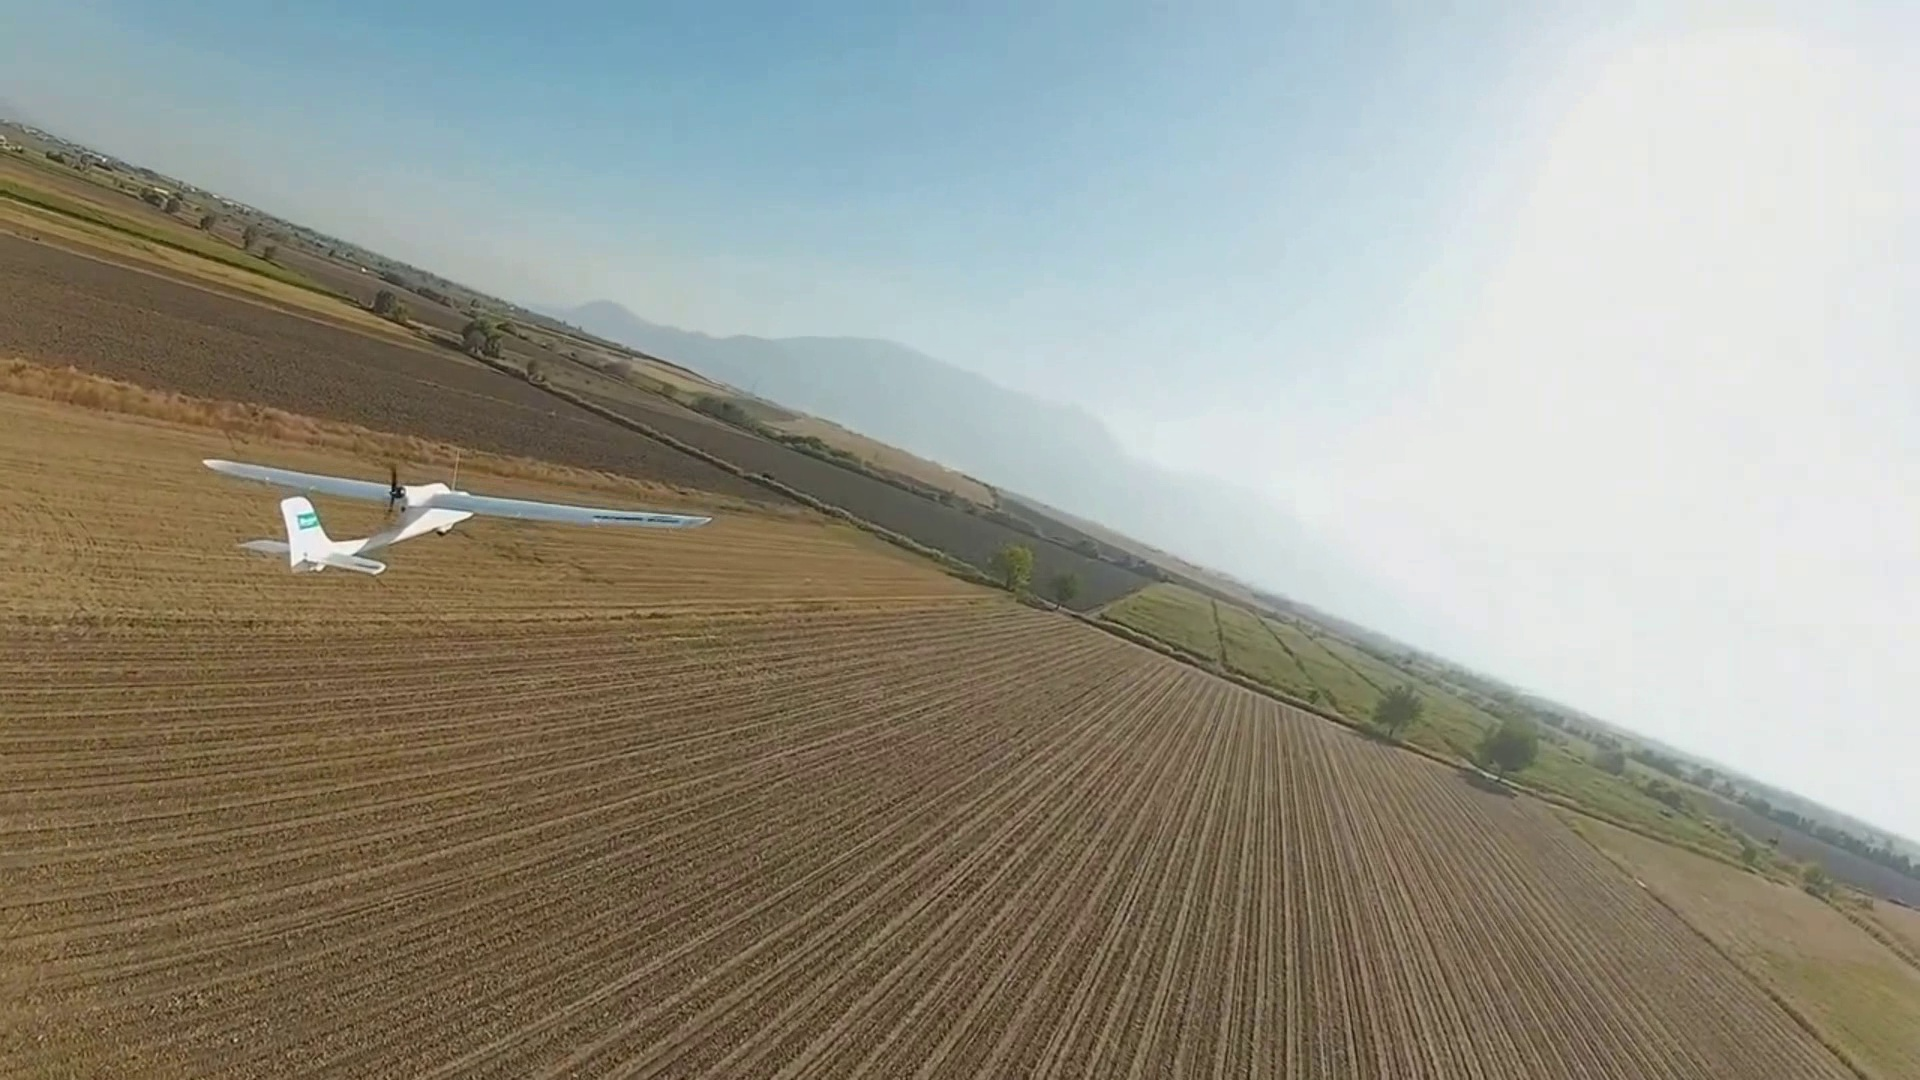airplane: (41, 225, 1920, 887), (200, 451, 711, 571), (199, 456, 477, 574)
